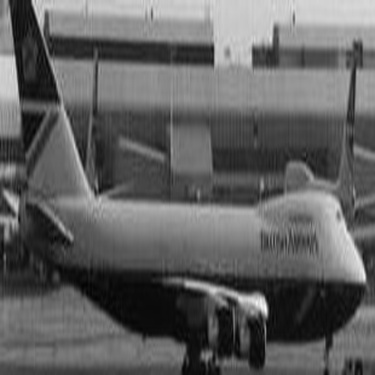airplane: (1, 7, 371, 372), (123, 14, 364, 241), (4, 43, 107, 264)
